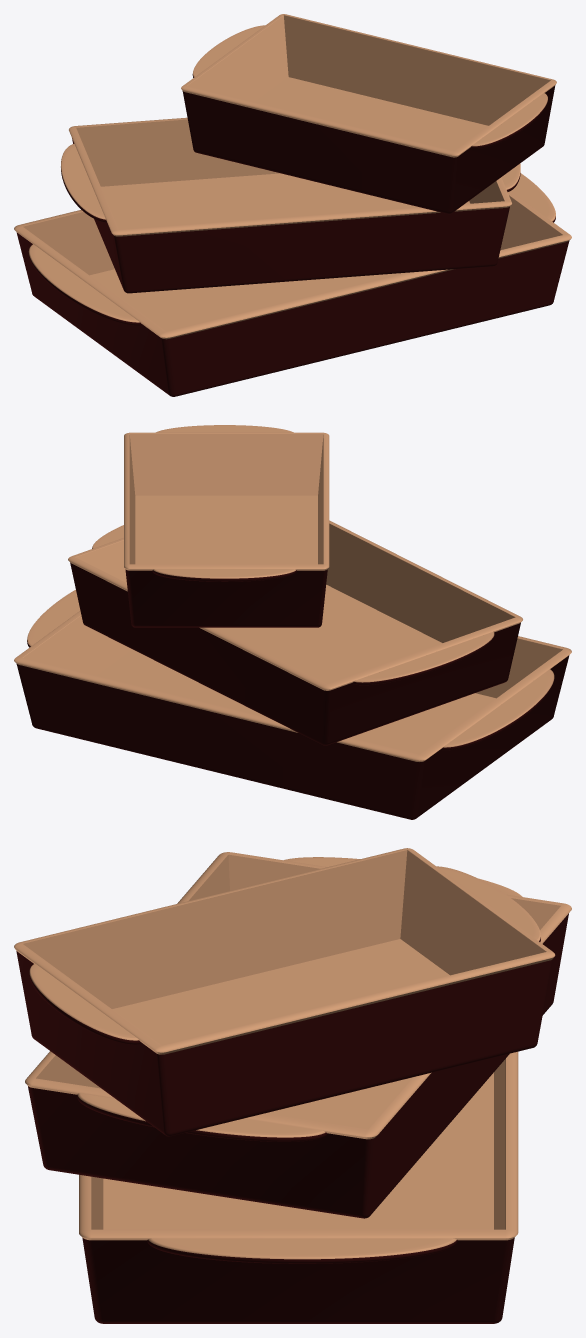
Rendered from BakingTrays.fbx.
The picture shows the model from 3 angles, top to bottom: view 1: azimuth 30°, elevation 25°; view 2: azimuth 150°, elevation 25°; view 3: azimuth 270°, elevation 25°; orthographic projection. The views are drawn at different scales.
Parts seen in each view (by area): view 1: ChamferCyl003, ChamferCyl001, ChamferCyl002; view 2: ChamferCyl001, ChamferCyl002, ChamferCyl003; view 3: ChamferCyl003, ChamferCyl001, ChamferCyl002.
Part boxes in pixels (bbox=[...]): ChamferCyl003: bbox=[181, 14, 556, 214]; ChamferCyl001: bbox=[14, 173, 571, 396]; ChamferCyl002: bbox=[61, 117, 520, 293]; ChamferCyl001: bbox=[14, 589, 571, 819]; ChamferCyl002: bbox=[68, 520, 522, 745]; ChamferCyl003: bbox=[124, 425, 329, 627]; ChamferCyl003: bbox=[14, 848, 555, 1136]; ChamferCyl001: bbox=[79, 1051, 518, 1323]; ChamferCyl002: bbox=[25, 852, 571, 1218].
Size of the model in its own units: 52.54 by 22.04 by 37.94.
